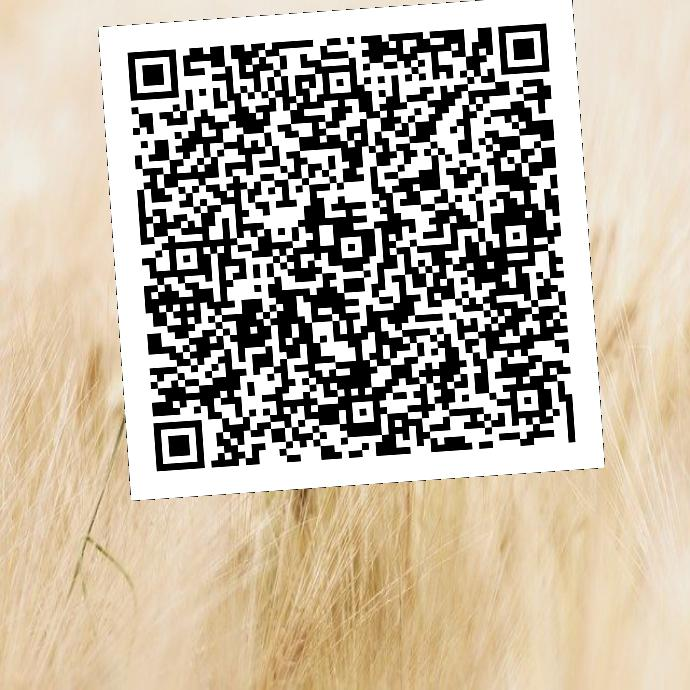qr_code: (98, 0, 604, 503)
